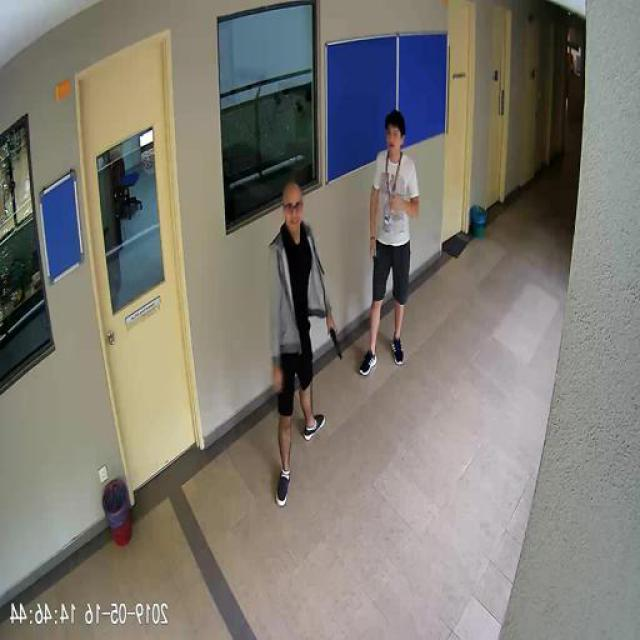Gun: (330, 322, 344, 356)
